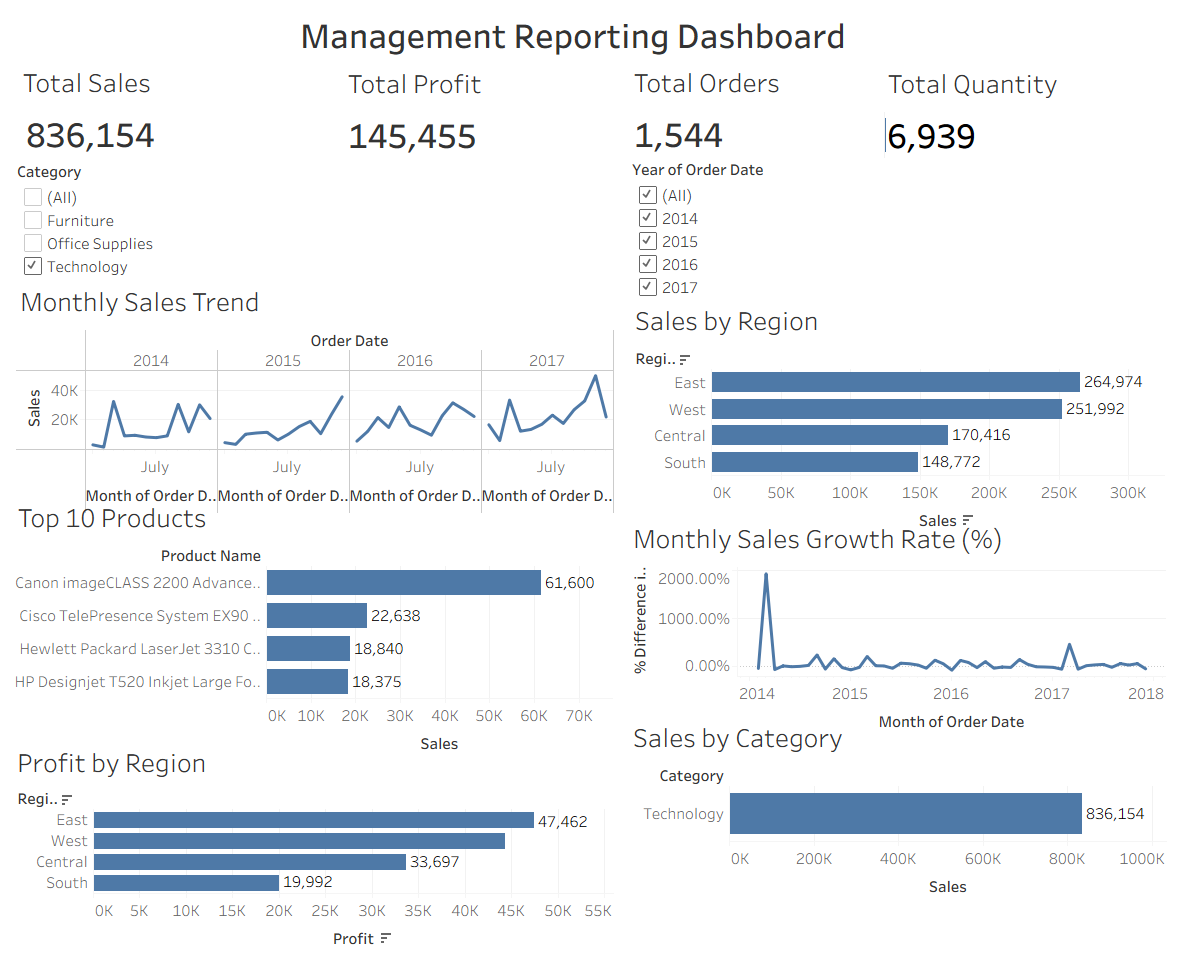

This screenshot's page, from the dashboard's own definition file:
{"tool":"tableau","page":{"name":"Management Reporting Dashboard","canvas":[1200,900],"ordinal":0},"visuals":[{"type":"title","box":[8,8,1184,53]},{"type":"worksheet","title":"Total Sales","mark":"Automatic","box":[46,61,399,99]},{"type":"worksheet","title":"Total Orders","mark":"Automatic","box":[657,61,351,96]},{"type":"worksheet","title":"Total Profit","mark":"Automatic","box":[371,62,397,96]},{"type":"filter","title":"Sales by Region","param":"[federated.0df7n3r08we48q19yuplv0whq5ci].[yr:Order Date:ok]","box":[659,159,192,161]},{"type":"filter","title":"Sales by Region","param":"[federated.0df7n3r08we48q19yuplv0whq5ci].[none:Category:nk]","box":[44,161,280,137]},{"type":"worksheet","title":"Monthly sales Trend","mark":"Line","rows":["Sales"],"cols":["Order Date","Order Date"],"box":[43,280,598,234]},{"type":"worksheet","title":"Sales by Region","mark":"Bar","rows":["Region"],"cols":["Sales"],"box":[658,299,534,239]},{"type":"worksheet","title":"Top 10 Products","mark":"Automatic","rows":["Product Name"],"cols":["Sales"],"box":[41,496,599,265]},{"type":"worksheet","title":"Sales Growth Rate","mark":"Line","rows":["Sales"],"cols":["Order Date"],"box":[656,517,537,222]},{"type":"worksheet","title":"Sales by Category","mark":"Automatic","rows":["Category"],"cols":["Sales"],"box":[656,716,538,188]}]}

Visuals, with their boxes on the page's 1200x900 design canvas (x1, y1, x2, y2). These are canvas units, not pixel positions in the 1180x958 screenshot, which may show the page scaled, cropped or inside an application window:
title: box(8, 8, 1192, 61)
"Total Sales" worksheet: box(46, 61, 445, 160)
"Total Orders" worksheet: box(657, 61, 1008, 157)
"Total Profit" worksheet: box(371, 62, 768, 158)
"Sales by Region" filter: box(659, 159, 851, 320)
"Sales by Region" filter: box(44, 161, 324, 298)
"Monthly sales Trend" worksheet (Line marks): box(43, 280, 641, 514)
"Sales by Region" worksheet (Bar marks): box(658, 299, 1192, 538)
"Top 10 Products" worksheet: box(41, 496, 640, 761)
"Sales Growth Rate" worksheet (Line marks): box(656, 517, 1193, 739)
"Sales by Category" worksheet: box(656, 716, 1194, 904)
